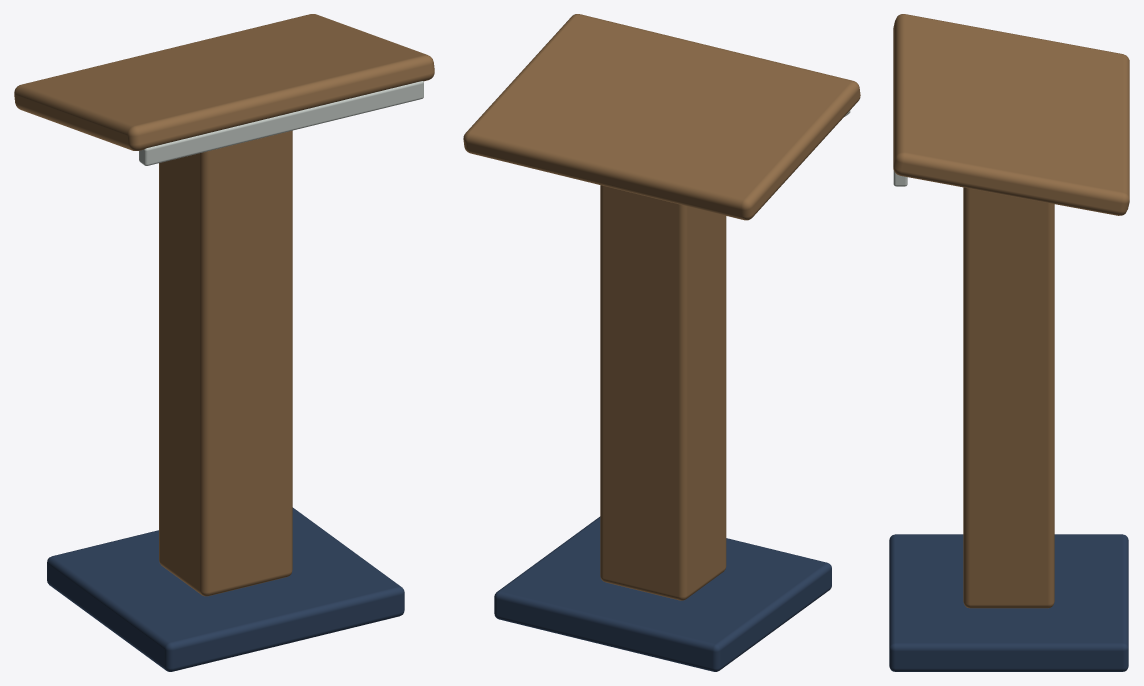
The model's file is planetarium-and-optical-observatory-presenter-lectern-eb917180__31833.glb.
3 views of the same model, side by side, from view 1: azimuth 30°, elevation 25°; view 2: azimuth 150°, elevation 25°; view 3: azimuth 270°, elevation 25° (orthographic). The views are drawn at different scales.
Visible parts, largest first — view 1: presenter-lectern; view 2: presenter-lectern; view 3: presenter-lectern.
Part boxes in pixels (box(x1,y1,x2,y2)): presenter-lectern: box(14, 14, 434, 671); presenter-lectern: box(463, 14, 860, 671); presenter-lectern: box(889, 14, 1129, 671).
Bounding box in the file's own units: 0.6 × 1.03 × 0.4218.
